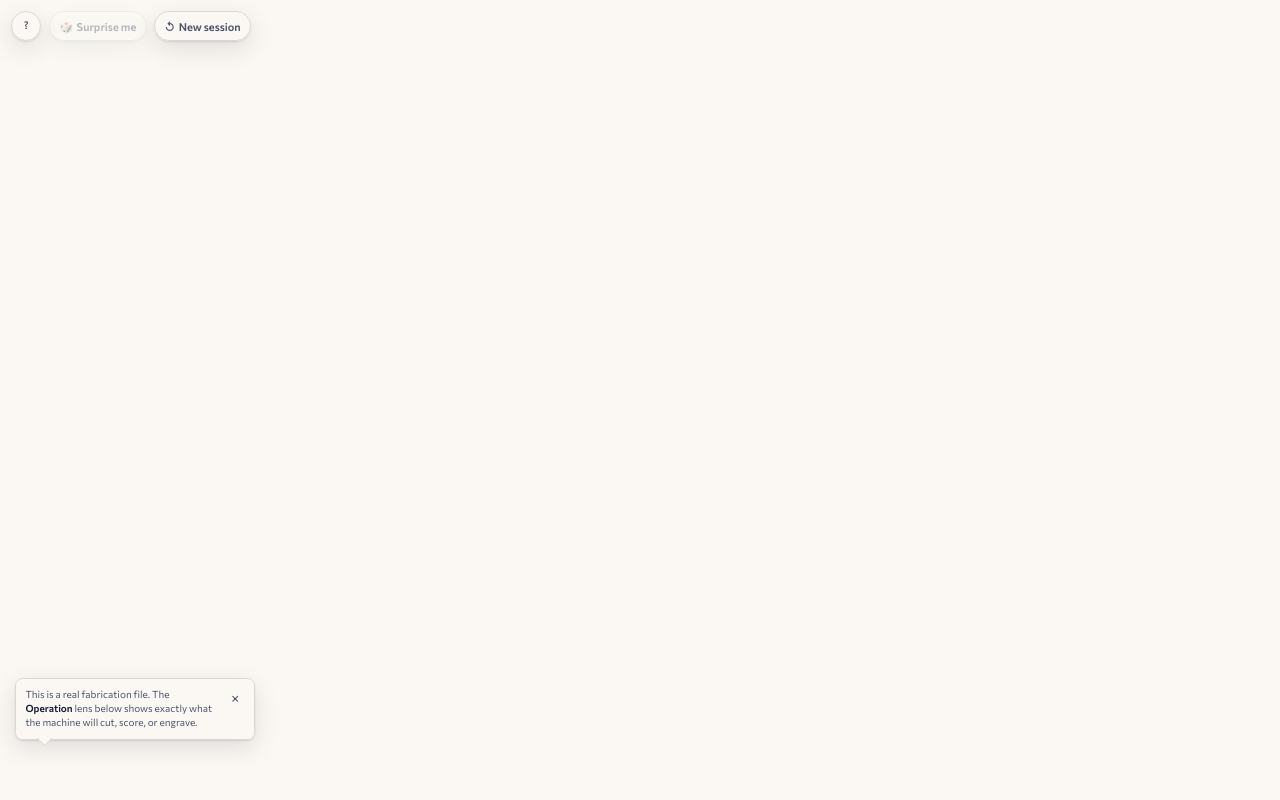
GuestOnboarding — P0-C "New session / hand to next person" (D18) › Cancel aborts the reset — dialog closes, nothing changes
Click the button with aria-label "start a new session" at x=203, y=26, box [154, 11, 251, 41]
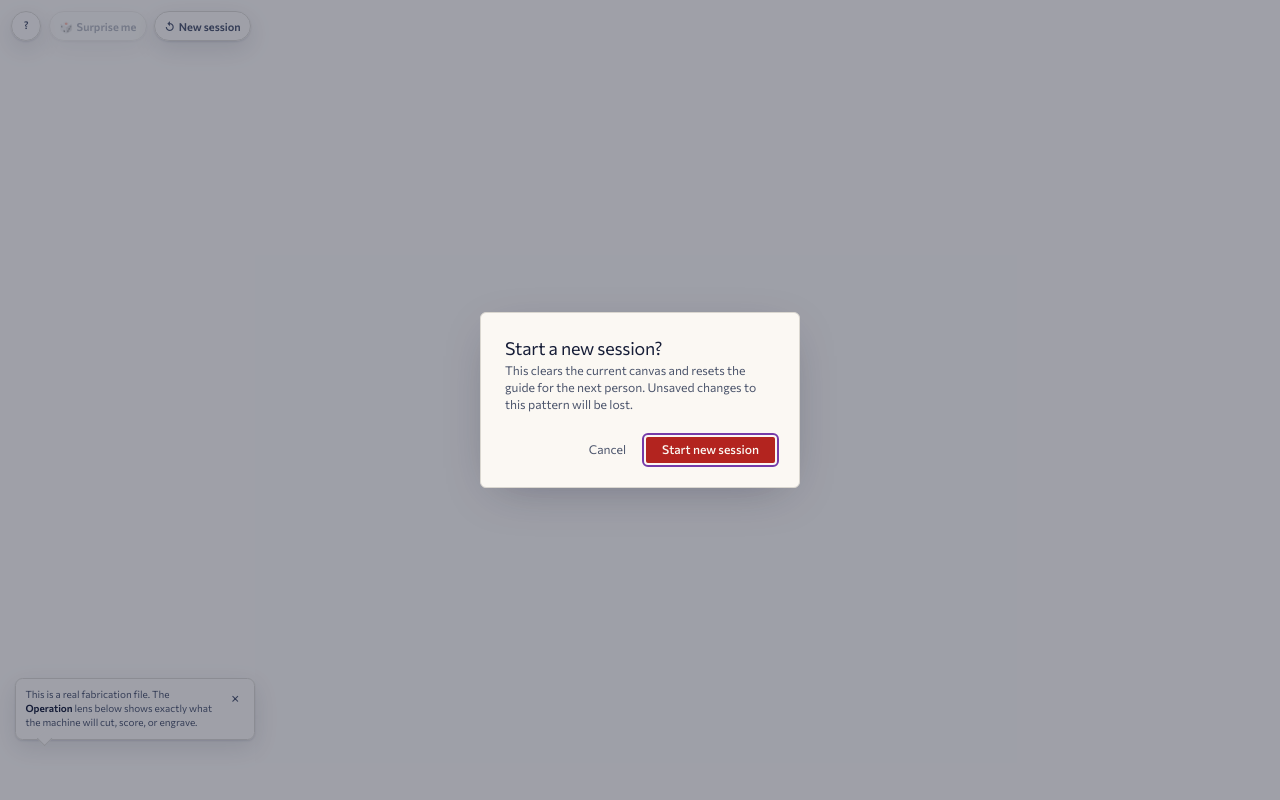
Expected: the dialog is shown, [480, 312, 800, 488]
Click the button "Cancel" at x=608, y=450, box [577, 437, 638, 463]
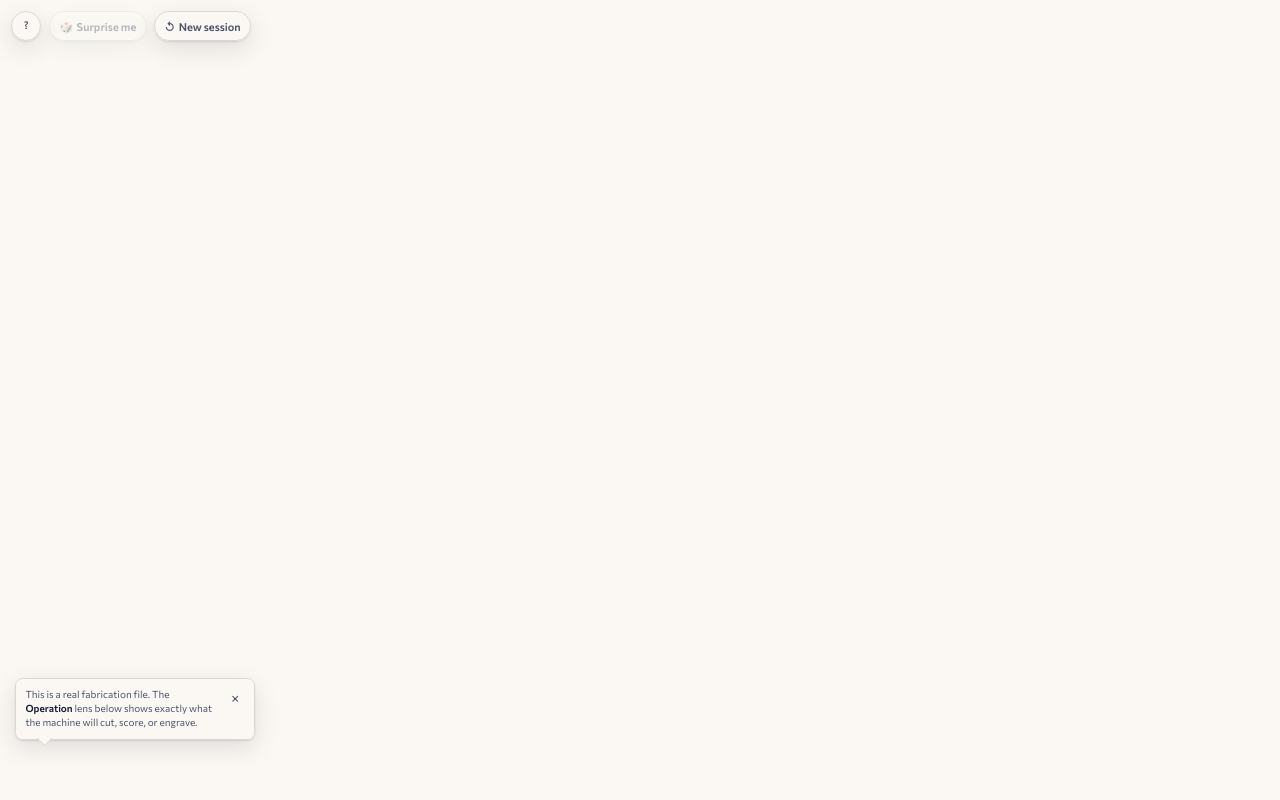
Expected: the dialog is gone
